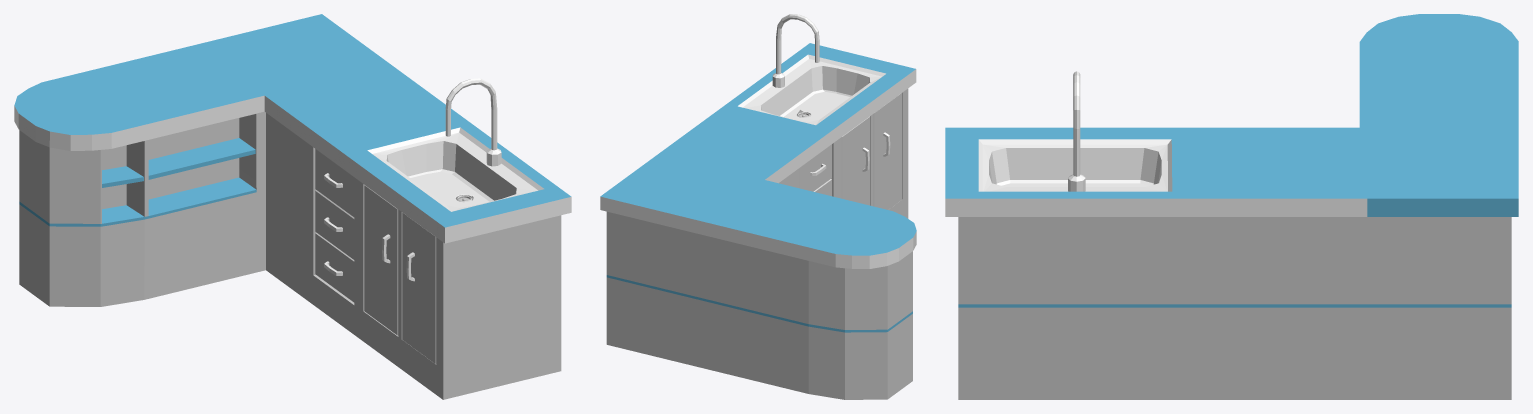
The picture shows the model from 3 angles, left to right: view 1: azimuth 30°, elevation 25°; view 2: azimuth 150°, elevation 25°; view 3: azimuth 270°, elevation 25°; orthographic projection. The views are drawn at different scales.
Parts seen in each view (by area): view 1: Cube.044; view 2: Cube.044; view 3: Cube.044.
Part boxes in pixels (bbox=[...]): Cube.044: bbox=[14, 14, 571, 399]; Cube.044: bbox=[600, 14, 916, 399]; Cube.044: bbox=[945, 14, 1518, 399].
Bounding box in the file's own units: 2807 × 2149 × 3686.
